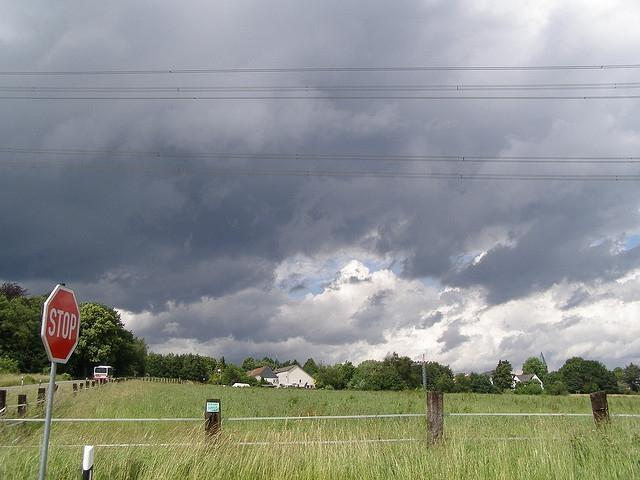bus: (93, 366, 115, 379)
car: (262, 384, 278, 388)
